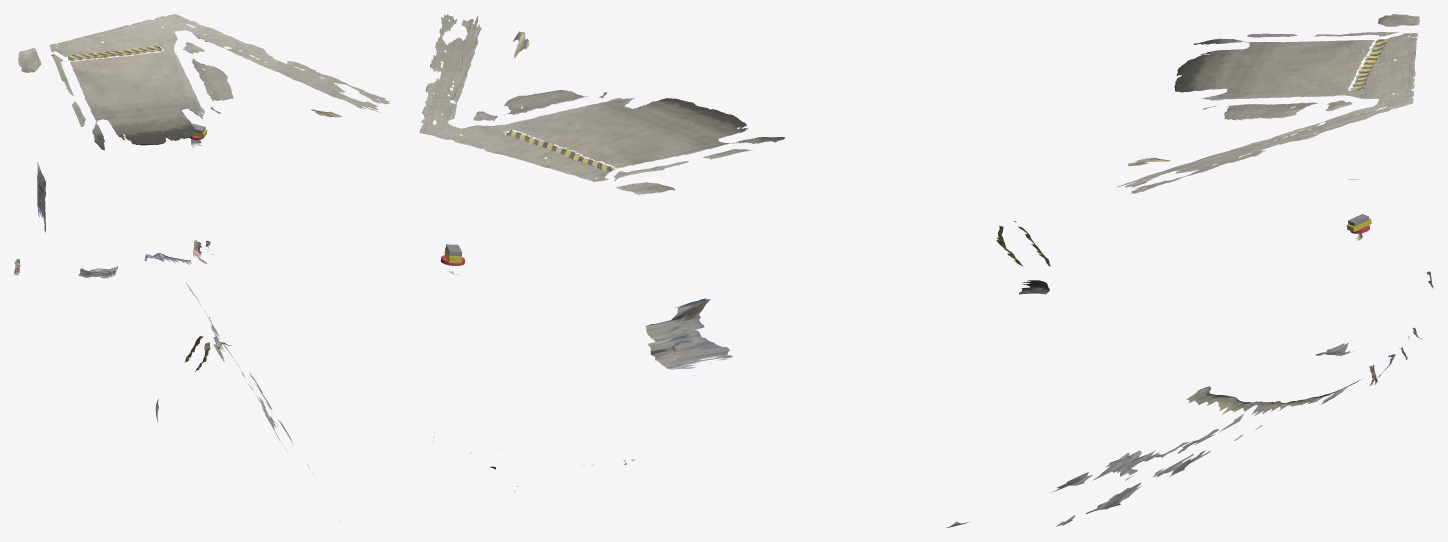
Rendered from object-extras.glb.
The picture shows the model from 3 angles, left to right: view 1: azimuth 30°, elevation 25°; view 2: azimuth 150°, elevation 25°; view 3: azimuth 270°, elevation 25°; orthographic projection. The views are drawn at different scales.
Parts seen in each view (by area): view 1: work-platform-1-photo-1-0, cable-tray-9-photo-1-0; view 2: work-platform-1-photo-1-0, sign-10-photo-2-0, floor-marking-12-photo-2-1; view 3: work-platform-1-photo-1-0, cable-tray-9-photo-1-0.
Boxes of the visible parts, bbox=[...] form: work-platform-1-photo-1-0: bbox=[18, 14, 390, 150]; cable-tray-9-photo-1-0: bbox=[186, 283, 340, 521]; work-platform-1-photo-1-0: bbox=[419, 14, 784, 194]; sign-10-photo-2-0: bbox=[645, 298, 732, 369]; floor-marking-12-photo-2-1: bbox=[504, 129, 614, 170]; work-platform-1-photo-1-0: bbox=[1117, 14, 1419, 193]; cable-tray-9-photo-1-0: bbox=[946, 378, 1363, 527].
Size of the model in its own units: 5.96 by 7.46 by 7.49.
